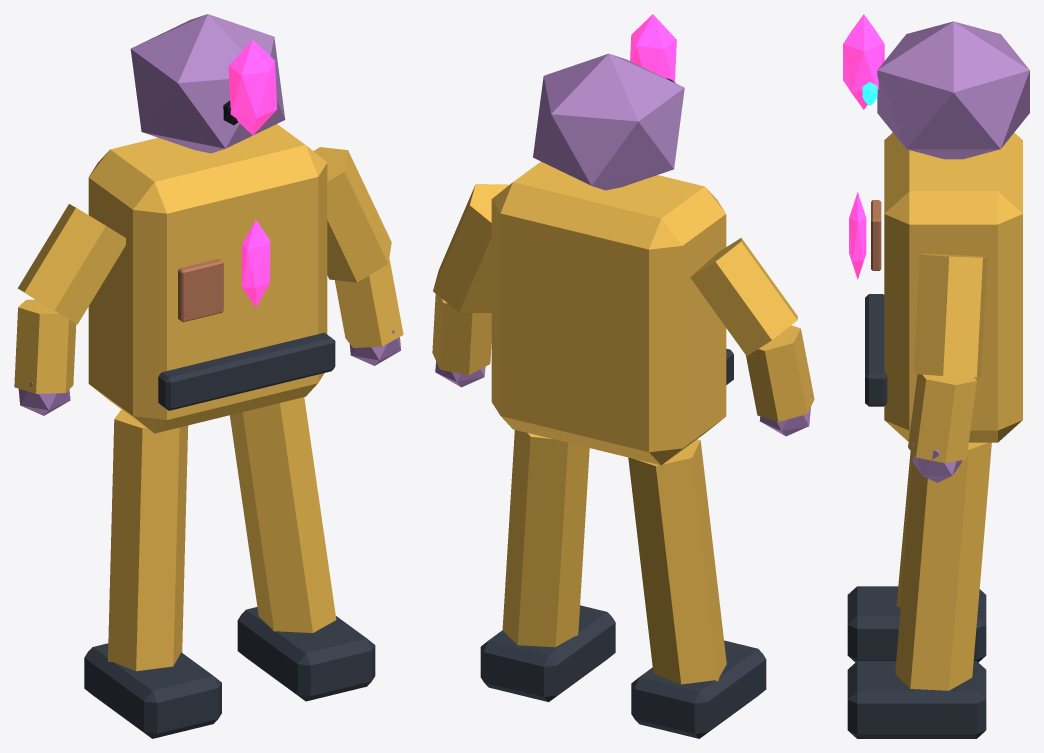
File: npcs_022_seed11.glb
The picture shows the model from 3 angles, left to right: view 1: azimuth 30°, elevation 25°; view 2: azimuth 150°, elevation 25°; view 3: azimuth 270°, elevation 25°; orthographic projection.
Visible parts, largest first — view 1: npcs_022_seed11; view 2: npcs_022_seed11; view 3: npcs_022_seed11.
Part boxes in pixels (x1=…): npcs_022_seed11: x1=14, y1=14, x2=403, y2=738; npcs_022_seed11: x1=432, y1=14, x2=814, y2=738; npcs_022_seed11: x1=843, y1=14, x2=1029, y2=738.
Size of the model in its own units: 1.08 by 1.82 by 0.459.
